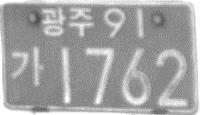1: (58, 45, 75, 106), (136, 5, 146, 42)
2: (154, 47, 191, 108)
6: (121, 46, 152, 106)
7: (82, 44, 116, 107)
9: (103, 6, 126, 39)
가: (8, 45, 45, 88)
광주_O: (39, 5, 94, 37)
